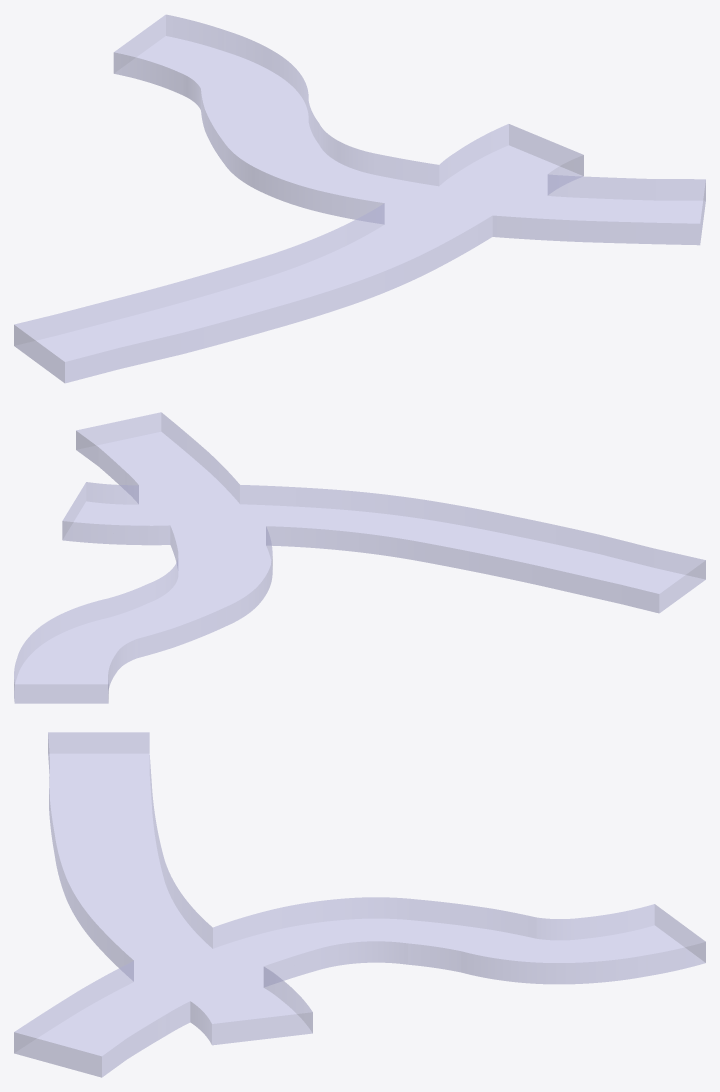
Rendered from 2030_EconomicBelt_Western_0.glb.
3 views of the same model, one above another, from view 1: azimuth 30°, elevation 25°; view 2: azimuth 150°, elevation 25°; view 3: azimuth 270°, elevation 25° (orthographic). The views are drawn at different scales.
Visible parts, largest first — view 1: from extrude; view 2: from extrude; view 3: from extrude.
Boxes of the visible parts, left/top/right/bottom form: from extrude: left=14, top=14, right=705, bottom=383; from extrude: left=14, top=412, right=705, bottom=703; from extrude: left=14, top=732, right=705, bottom=1077.
Size of the model in its own units: 163 by 5 by 147.
